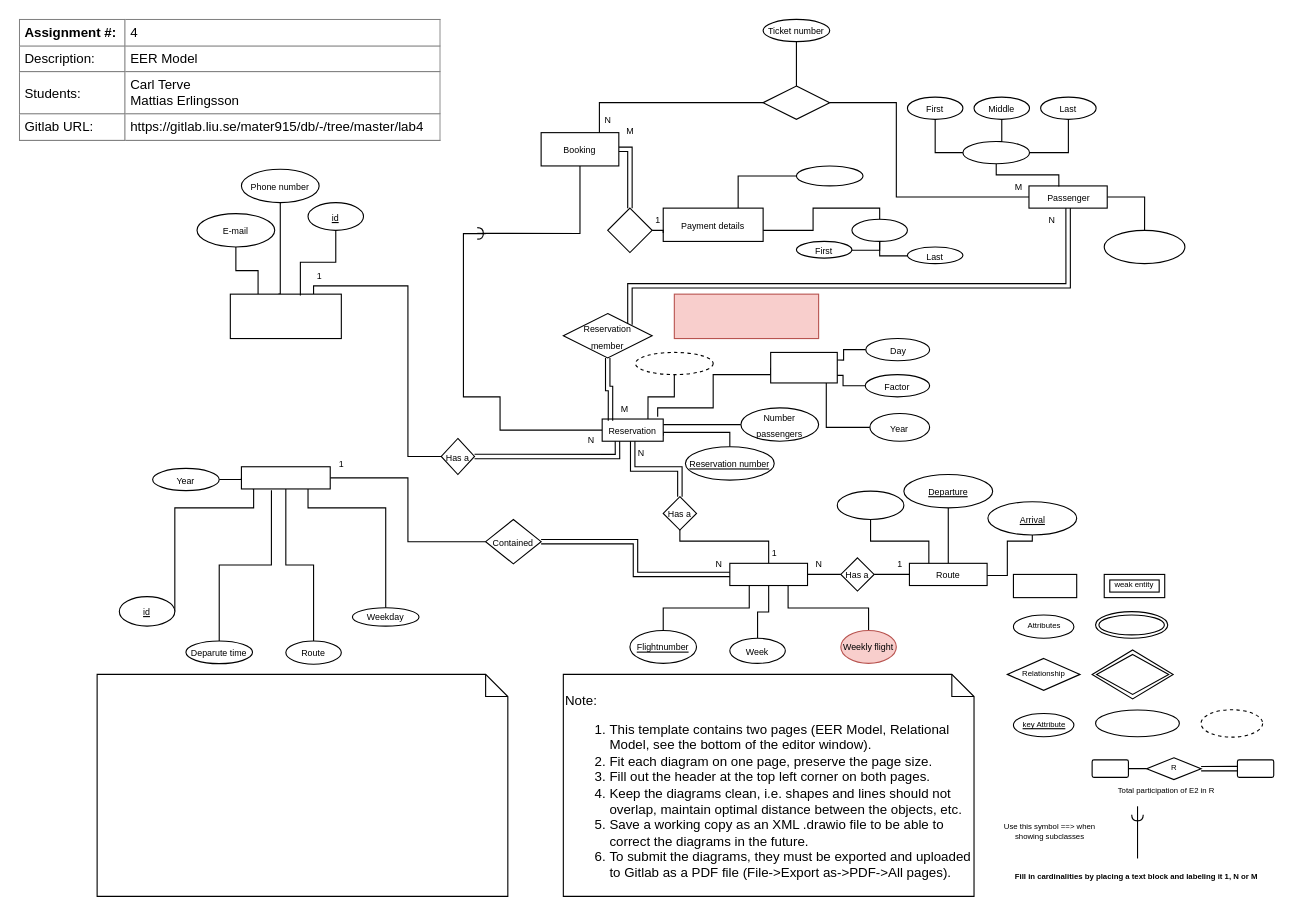
This 1293x916 diagram has some shape labels left out. Here are the shapes that lost their labels. From the top down, the centre of each, then its label:
At [796,102]: "Ticket".
At [996,152]: "Name".
At [829,175]: "Card number".
At [629,230]: "Payed by".
At [879,229]: "Card holder".
At [1144,246]: "Passport number".
At [285,316]: "Contact".
At [746,316]: "Routeprice*weekdayfactor* (number pass. +1)/40*profitfactor".
At [673,363]: "Total price".
At [803,367]: "Weekdayfactor".
At [285,477]: "Weekly schedule".
At [870,504]: "Route price".
At [768,574]: "Flight".
At [1044,585]: "Entity".
At [1131,624]: "multivalued attribute".
At [1132,674]: "identifying relationship".
At [1136,723]: "part of key attribute".
At [1231,723]: "derived attribute".
At [1109,768]: "E1".
At [1255,768]: "E2".
